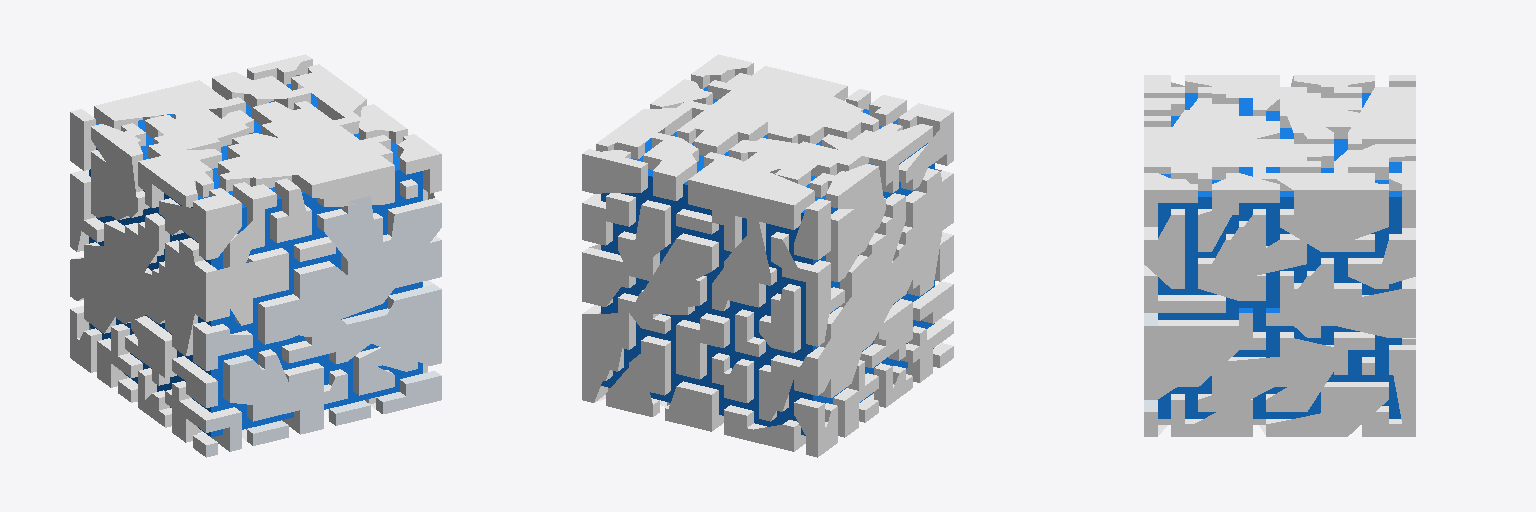
The model's file is PuzzleMaze.obj.
3 views of the same model, side by side, from view 1: azimuth 30°, elevation 25°; view 2: azimuth 150°, elevation 25°; view 3: azimuth 270°, elevation 25° (orthographic).
Visible parts, largest first — view 1: Mesh1 Model; view 2: Mesh1 Model; view 3: Mesh1 Model.
Boxes of the visible parts, x1,y1,x2,y2 form: Mesh1 Model: [70, 54, 441, 457]; Mesh1 Model: [582, 54, 953, 457]; Mesh1 Model: [1144, 75, 1415, 436].
Size of the model in its own units: 5 by 5 by 5.